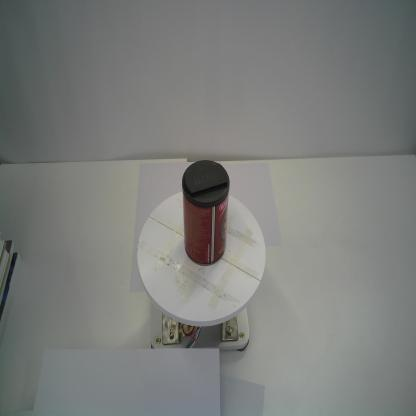Canned Food: (181, 159, 230, 266)
